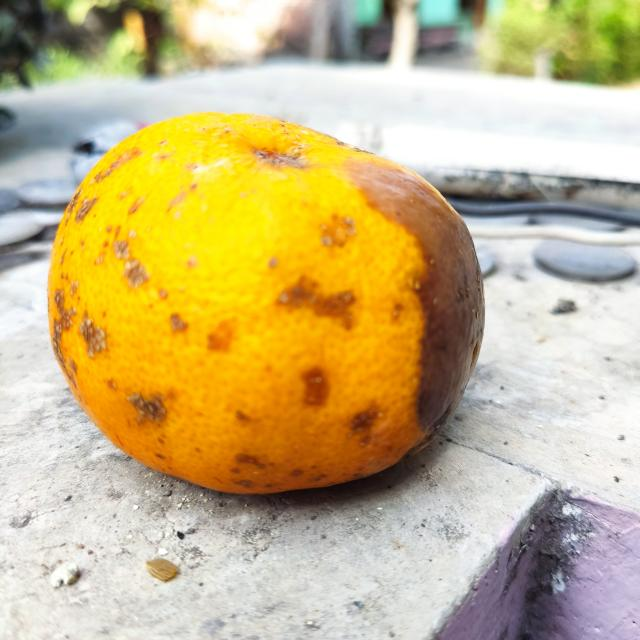orange: (43, 112, 484, 494)
